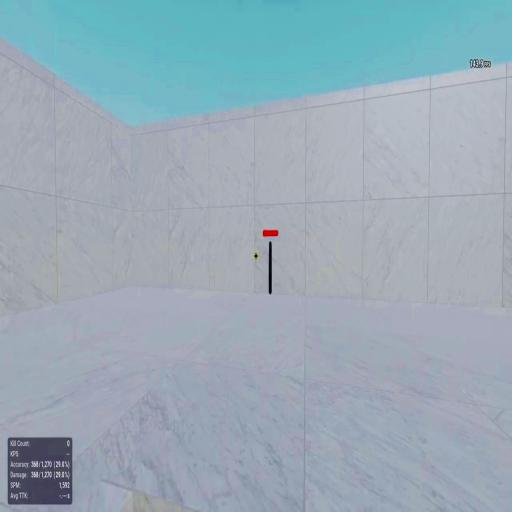Crosshair: (254, 252, 258, 260)
Target: (269, 241, 272, 294)
